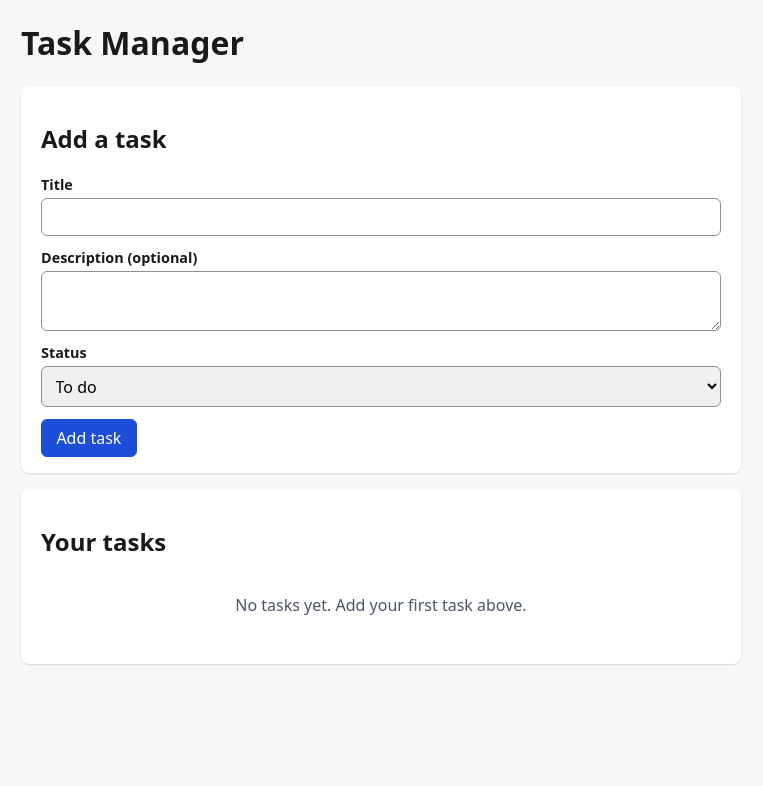
Test: App › deletes immediately and shows an undo snackbar
Type "Delete me" into the field labelled "Title" at [381, 217], box [41,198,721,236]
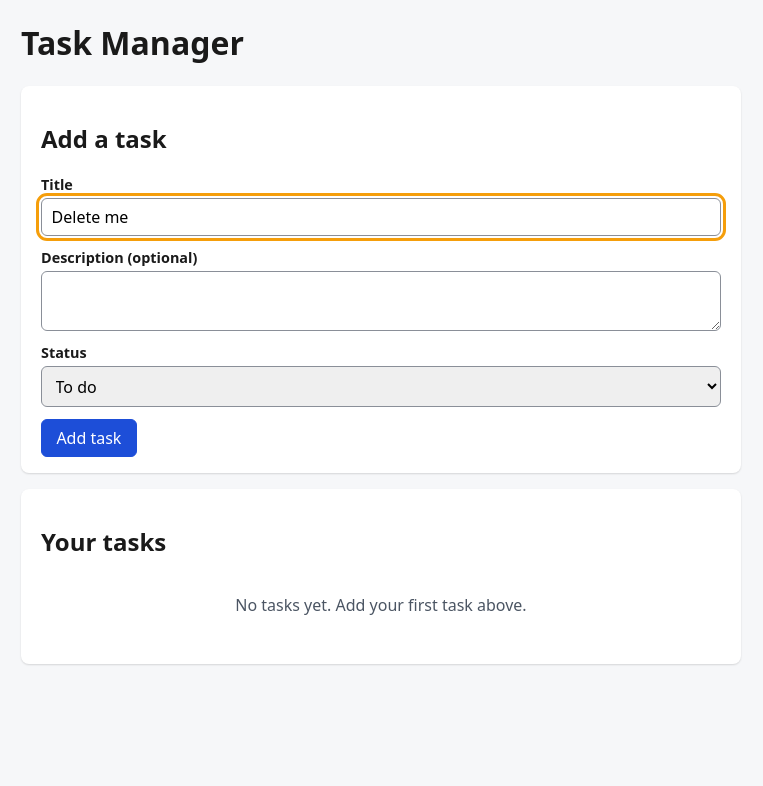
Click the button "Add task" at [89, 438], box [41,419,137,457]
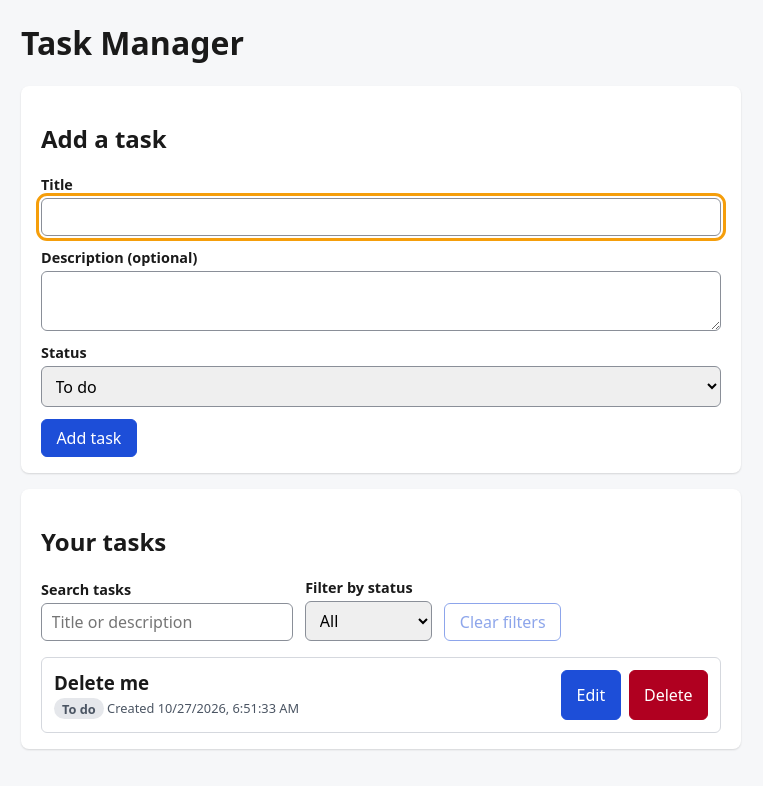
Click the button with aria-label "Delete Delete me" at [668, 695], box [629,670,708,720]
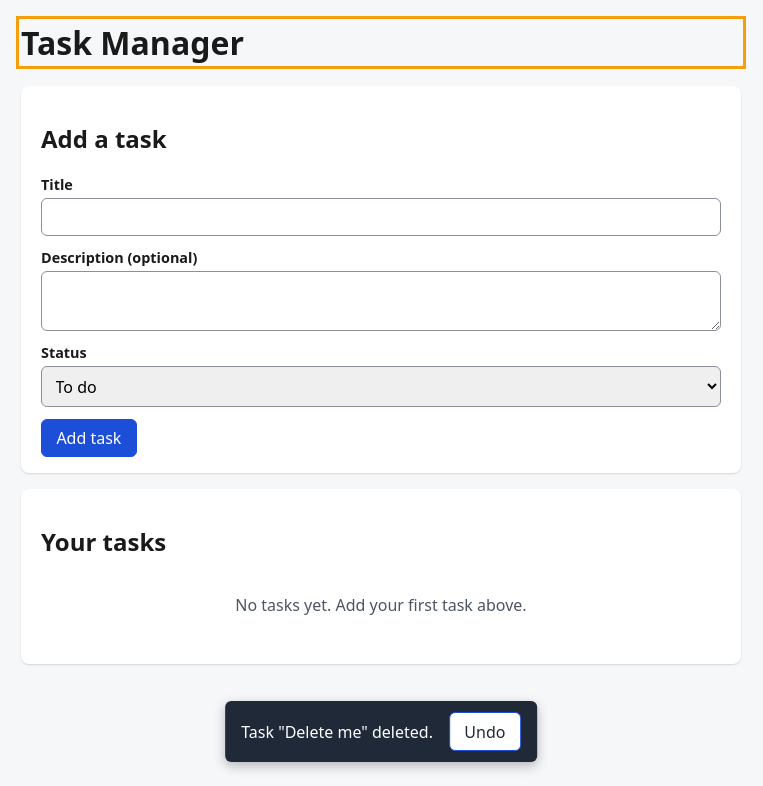
Expected: the button "Undo" is shown, [449,712,521,751]
